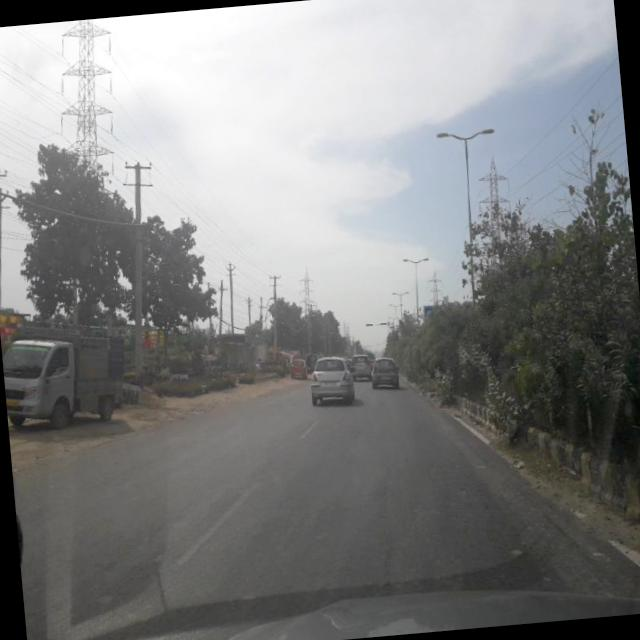crack: (29, 428, 560, 630)
